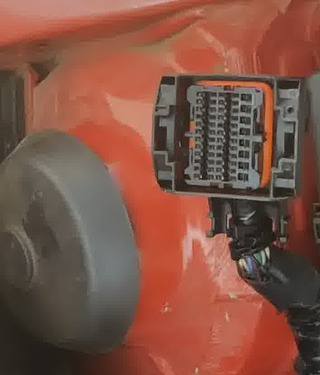connector: (151, 73, 306, 201)
